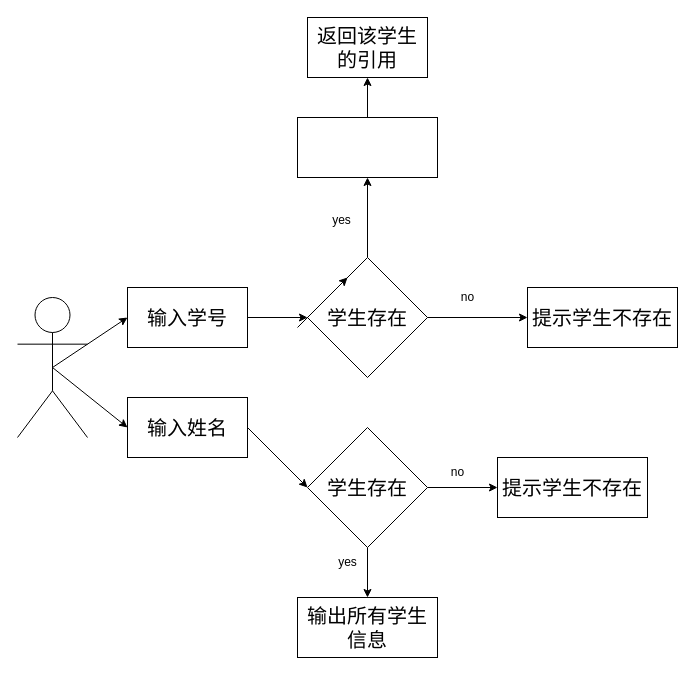
This 695x675 diagram has some shape labels left out. The shapes that lost their labels are listed below. From the top down, each one's box as (x1, y1, x2, y2) in pixels, then its label:
(296, 116, 438, 178): 输出学生信息
(16, 296, 88, 438): Actor
